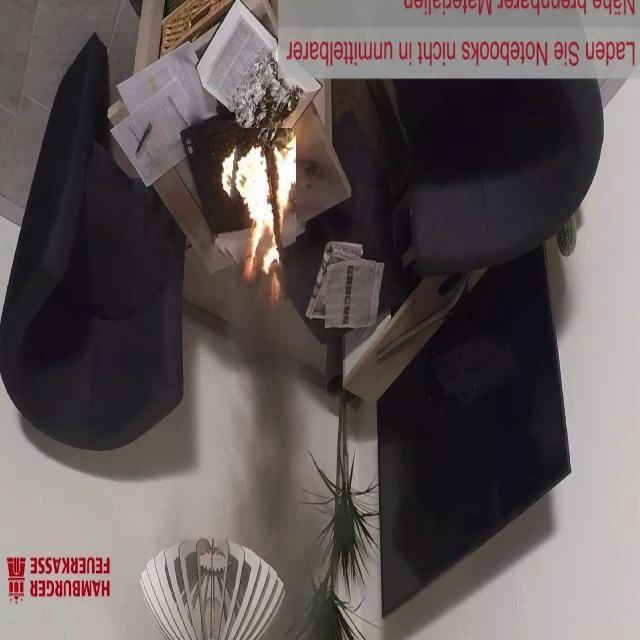fire: (198, 115, 340, 308)
